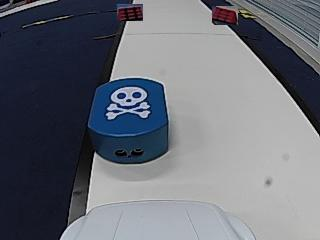danger: (106, 87, 147, 120)
